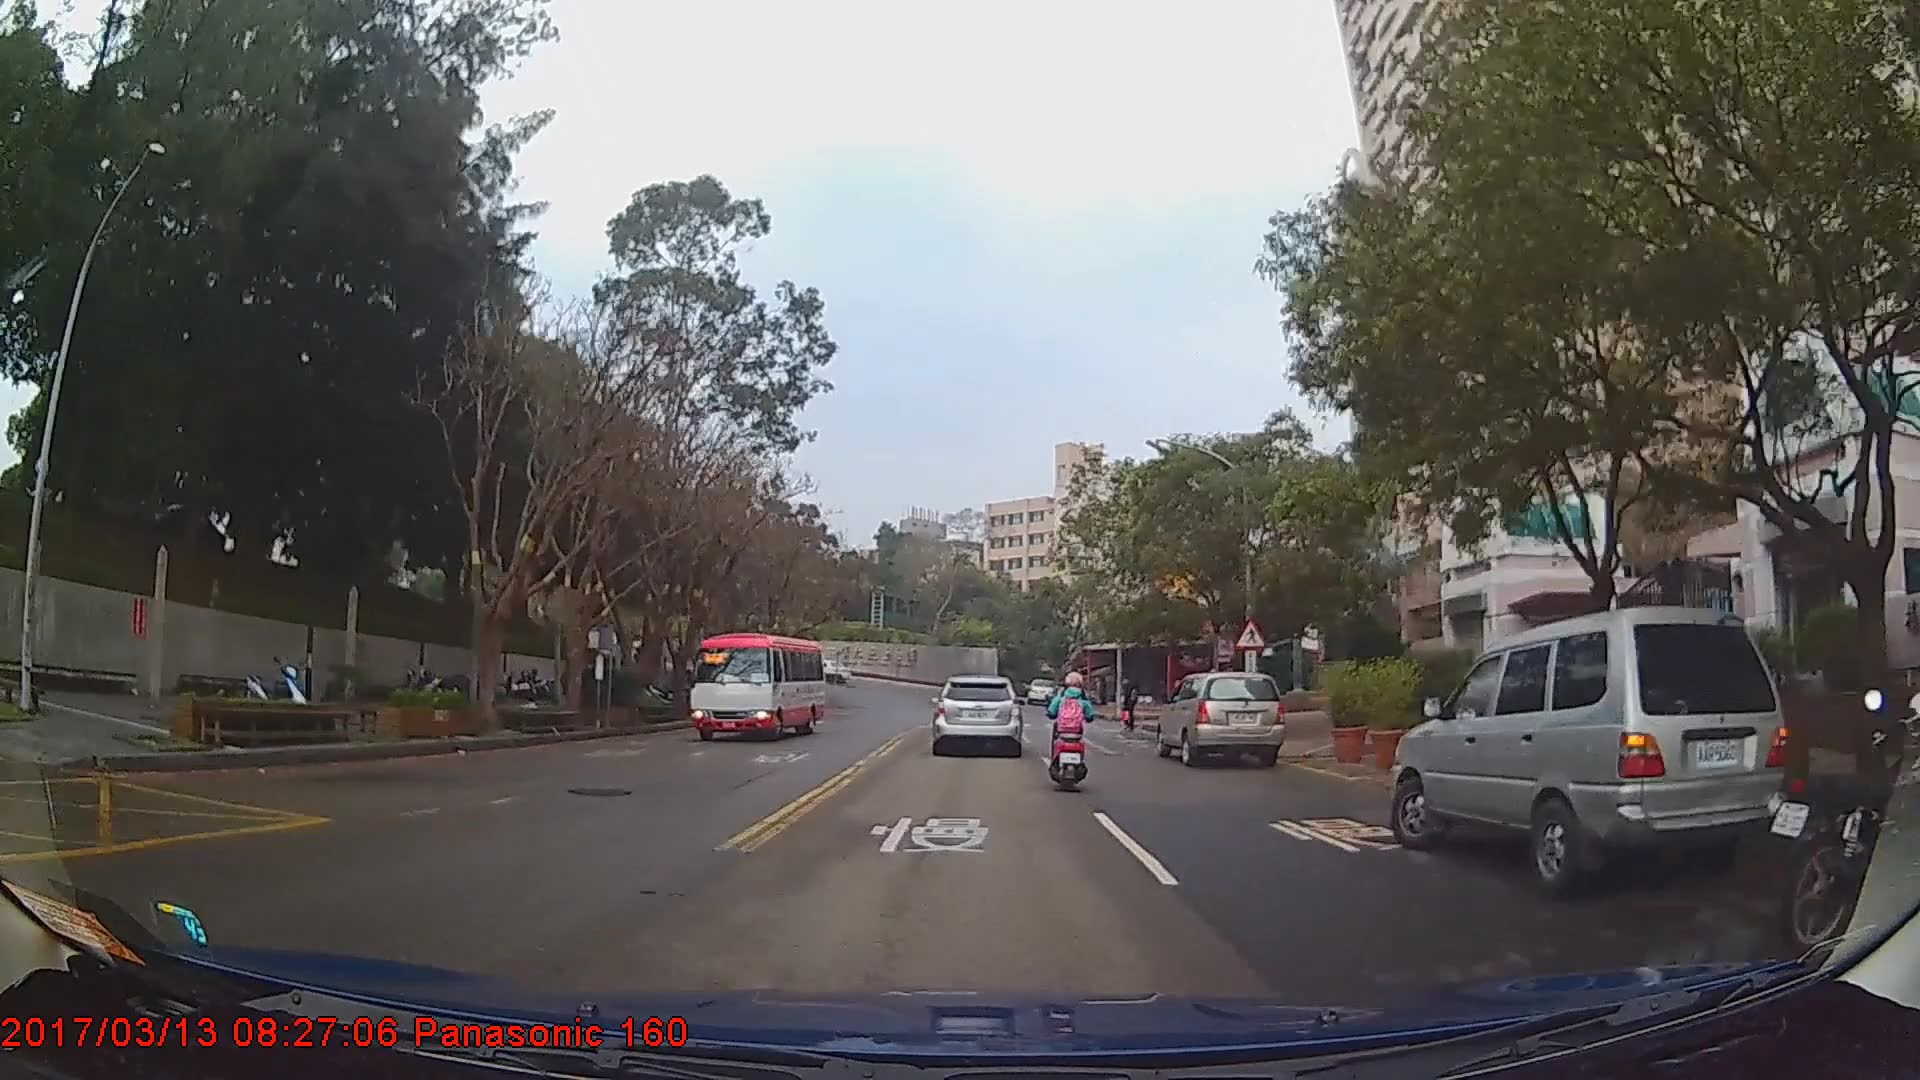pedestrian: (1117, 673, 1142, 735)
rider: (1044, 665, 1099, 795)
vehicle: (1394, 602, 1789, 898), (689, 630, 826, 741), (1154, 670, 1284, 767), (929, 674, 1023, 757), (1026, 677, 1057, 703)
